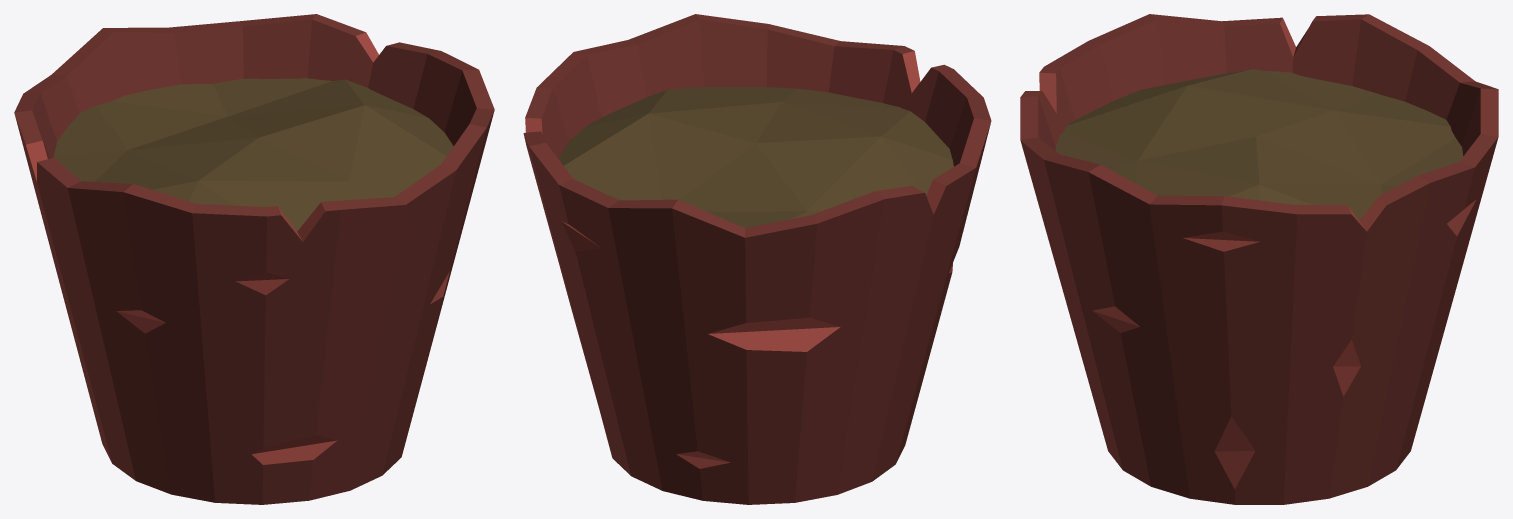
The model's file is Bucket_3_Red.fbx.
3 views of the same model, side by side, from view 1: azimuth 30°, elevation 25°; view 2: azimuth 150°, elevation 25°; view 3: azimuth 270°, elevation 25° (orthographic). The views are drawn at different scales.
Parts seen in each view (by area): view 1: Bucket_3_Red_Part_1, Bucket_3_Red_Part_3, Bucket_3_Red_Part_2; view 2: Bucket_3_Red_Part_1, Bucket_3_Red_Part_3, Bucket_3_Red_Part_2; view 3: Bucket_3_Red_Part_1, Bucket_3_Red_Part_3, Bucket_3_Red_Part_2.
Part boxes in pixels (x1,y1,x2,y2): Bucket_3_Red_Part_1: [14, 14, 494, 504]; Bucket_3_Red_Part_3: [53, 78, 453, 231]; Bucket_3_Red_Part_2: [26, 32, 450, 464]; Bucket_3_Red_Part_1: [523, 14, 991, 504]; Bucket_3_Red_Part_3: [558, 87, 953, 227]; Bucket_3_Red_Part_2: [525, 51, 952, 468]; Bucket_3_Red_Part_1: [1020, 14, 1498, 504]; Bucket_3_Red_Part_3: [1055, 69, 1463, 220]; Bucket_3_Red_Part_2: [1039, 18, 1476, 489].
Size of the model in its own units: 79.02 by 62.58 by 79.02.
